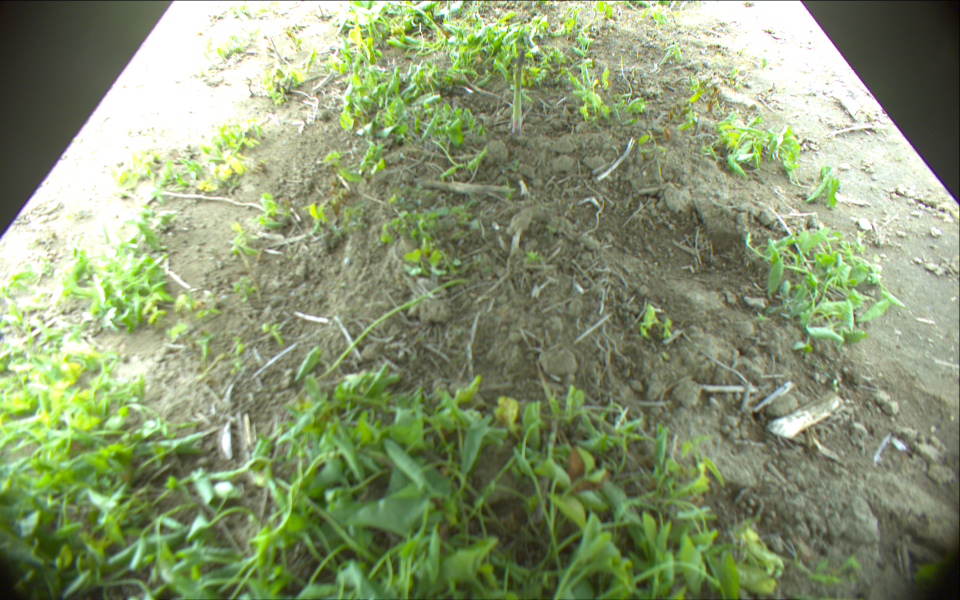aspa: (510, 48, 523, 135)
